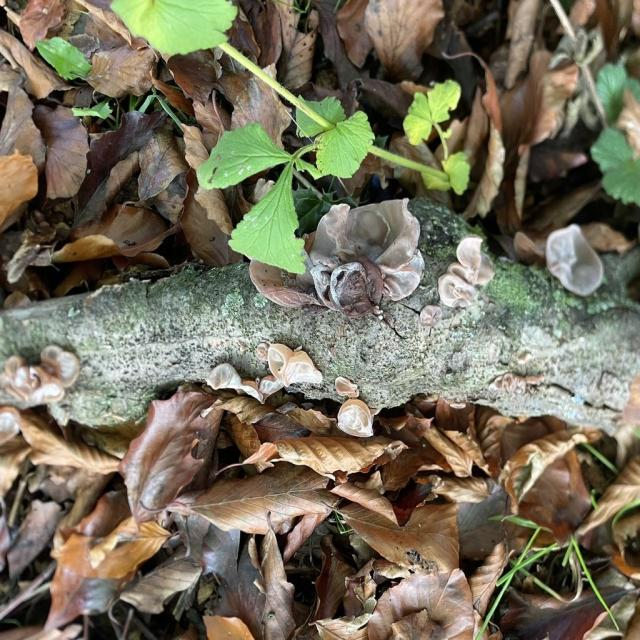Fase Muda: (544, 220, 606, 298), (203, 362, 286, 407), (266, 342, 327, 390), (447, 234, 497, 288), (335, 397, 377, 441), (437, 271, 481, 309), (333, 374, 363, 400), (418, 303, 443, 327), (254, 340, 272, 361)
Matang: (247, 196, 428, 322)
